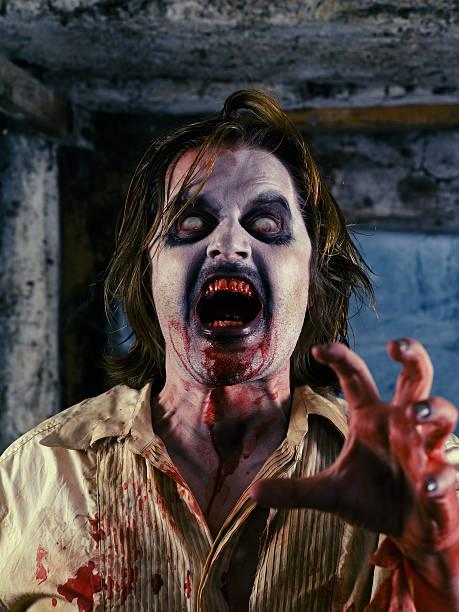Zombie: (157, 161, 316, 378)
